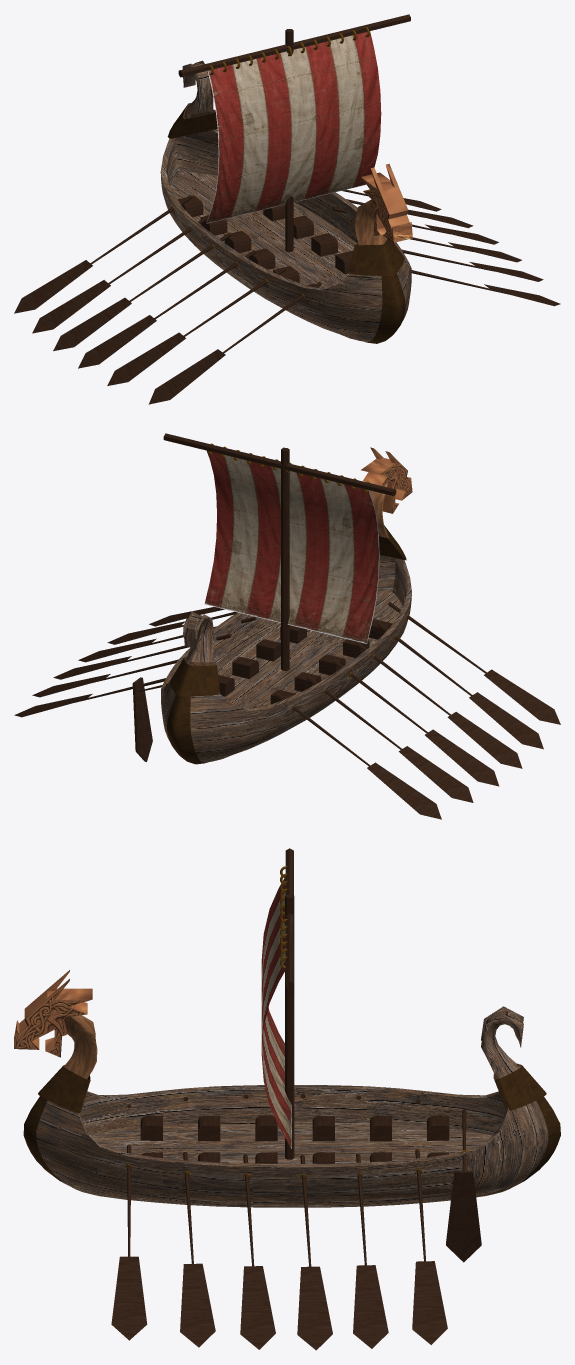
File: Ship.glb
The picture shows the model from 3 angles, top to bottom: view 1: azimuth 30°, elevation 25°; view 2: azimuth 150°, elevation 25°; view 3: azimuth 270°, elevation 25°; orthographic projection. The views are drawn at different scales.
Visible parts, largest first — view 1: Plane.012, Plane.011, Plane.014, Plane.013, Plane.015, Plane.016, Plane.017, Plane.018, Plane.019, Cube.002, Cylinder.003, Cube.004 (+2 smaller); view 2: Plane.012, Plane.011, Plane.017, Plane.018, Plane.019, Plane.016, Plane.015, Plane.013, Cylinder.001, Cylinder.003, Plane.014, Cube.002 (+2 smaller); view 3: Plane.011, Plane.012, Cube.002, Plane.014, Plane.017, Plane.019, Plane.013, Plane.015, Plane.016, Plane.018, Plane.021, Cylinder.001 (+3 smaller).
Part boxes in pixels (x1,y1,x2,y2): Plane.012: (206, 31, 381, 223); Plane.011: (160, 60, 411, 343); Plane.014: (361, 163, 412, 242); Plane.013: (148, 270, 560, 404); Plane.015: (107, 249, 543, 385); Plane.016: (78, 237, 521, 368); Plane.017: (53, 207, 498, 351); Plane.018: (32, 195, 473, 333); Plane.019: (14, 189, 441, 313); Cube.002: (177, 195, 319, 287); Cylinder.003: (178, 14, 410, 77); Cube.004: (263, 204, 353, 274); Plane.012: (204, 450, 379, 643); Plane.011: (161, 525, 411, 764); Plane.017: (53, 634, 499, 786); Plane.018: (32, 659, 473, 802); Plane.019: (14, 678, 441, 819); Plane.016: (78, 616, 522, 768); Plane.015: (107, 611, 543, 749); Plane.013: (149, 602, 560, 724); Cylinder.001: (281, 447, 289, 670); Cylinder.003: (163, 433, 396, 496); Plane.014: (361, 447, 412, 513); Cube.002: (253, 619, 392, 708); Plane.011: (23, 1006, 560, 1207); Plane.012: (261, 878, 291, 1148); Cube.002: (140, 1116, 449, 1141); Plane.014: (14, 970, 92, 1057); Plane.017: (297, 1094, 332, 1350); Plane.019: (412, 1099, 447, 1344); Plane.013: (111, 1104, 147, 1340); Plane.015: (180, 1097, 215, 1347); Plane.016: (240, 1094, 275, 1349); Plane.018: (353, 1095, 388, 1348); Plane.021: (446, 1171, 481, 1262); Cylinder.001: (285, 894, 294, 1159).
Bounding box in the file's own units: 9.07 × 5.34 × 8.09.
10 materials, 10 textured.
